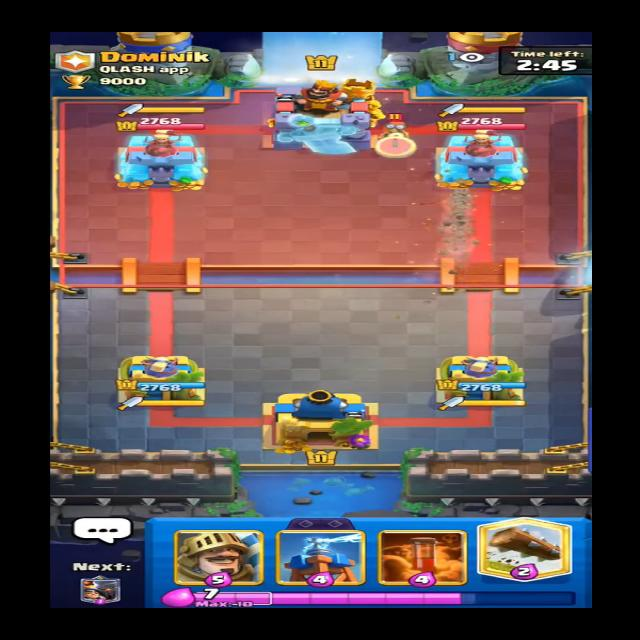Bomber: (371, 110, 421, 149)
